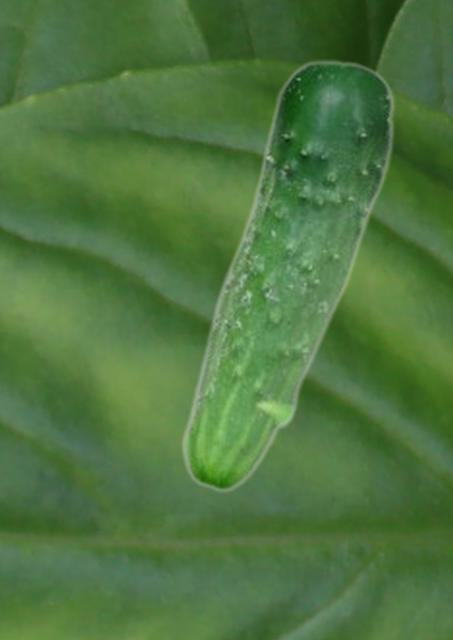cucumber: (179, 59, 395, 492)
